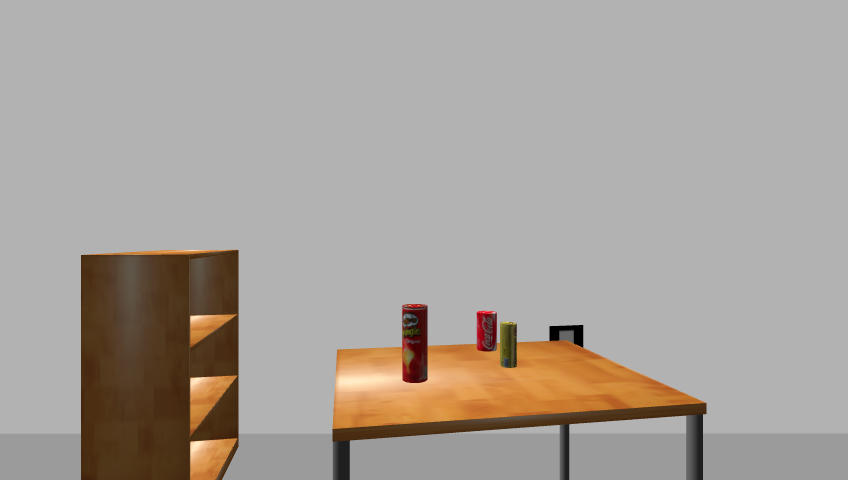aruco marker: (546, 324, 588, 353)
biscuits pack: (501, 322, 519, 369)
bookshelf: (77, 247, 247, 479)
coke can: (475, 310, 499, 352)
dinner table: (326, 339, 715, 480)
pringles can: (399, 303, 430, 385)
